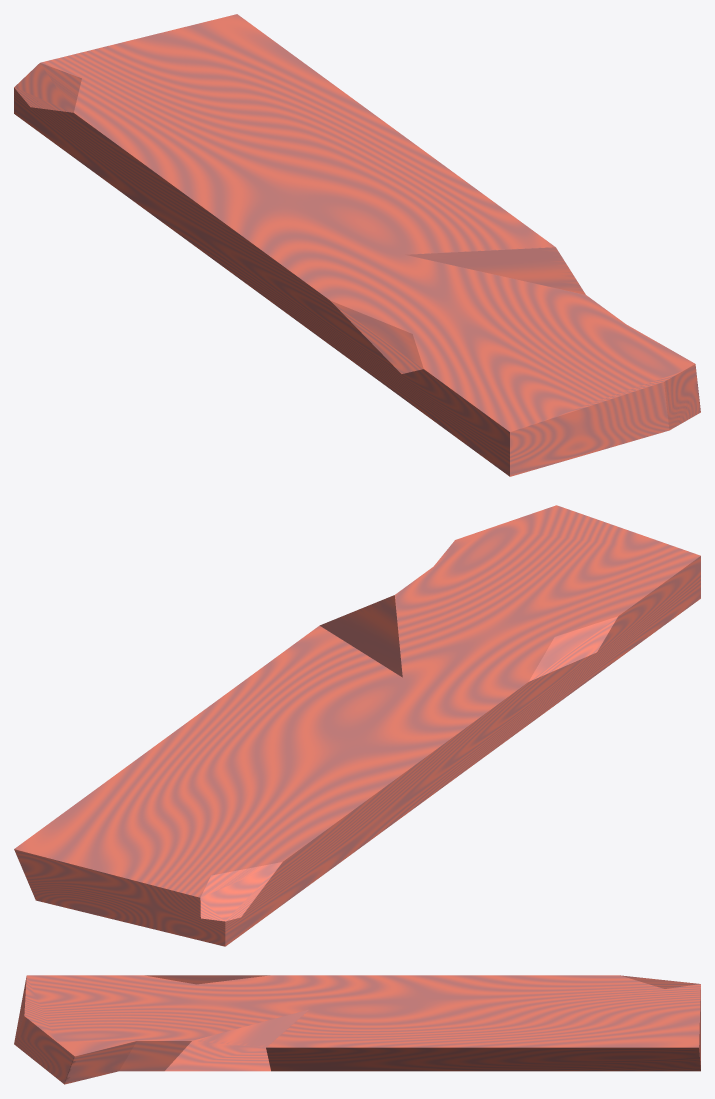
Rendered from Plank3.glb.
The picture shows the model from 3 angles, top to bottom: view 1: azimuth 30°, elevation 25°; view 2: azimuth 150°, elevation 25°; view 3: azimuth 270°, elevation 25°; orthographic projection. The views are drawn at different scales.
Parts seen in each view (by area): view 1: Cube.003; view 2: Cube.003; view 3: Cube.003.
Part boxes in pixels (box(x1,y1,x2,y2)): Cube.003: box(14, 14, 700, 476); Cube.003: box(14, 505, 700, 946); Cube.003: box(14, 975, 700, 1084).
Size of the model in its own units: 0.5164 by 0.152 by 2.04.
1 material, 1 textured.
